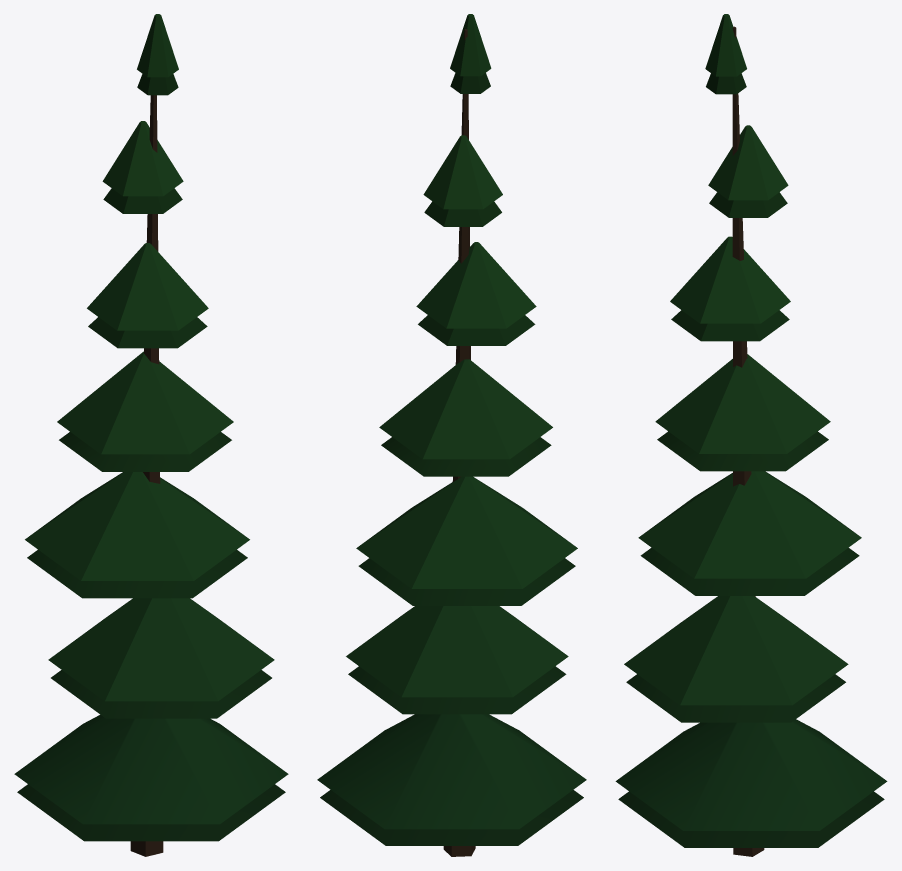
File: tree_spruce_3_far.glb
The picture shows the model from 3 angles, left to right: view 1: azimuth 30°, elevation 25°; view 2: azimuth 150°, elevation 25°; view 3: azimuth 270°, elevation 25°; orthographic projection.
Parts seen in each view (by area): view 1: leaf, wood; view 2: leaf, wood; view 3: leaf, wood.
Boxes of the visible parts, bbox=[...] form: leaf: bbox=[14, 14, 288, 841]; wood: bbox=[130, 95, 163, 856]; leaf: bbox=[317, 14, 586, 845]; wood: bbox=[443, 29, 475, 856]; leaf: bbox=[615, 14, 887, 847]; wood: bbox=[732, 26, 764, 856].
Bounding box in the file's own units: 3.57 × 13.96 × 4.12.
